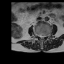CCS_stenosis: (41, 33, 43, 40)
LFS_stenosis: (45, 33, 46, 38)
LLS_normal: (43, 33, 44, 39)
RFS_normal: (37, 32, 39, 38)
RLS_normal: (39, 33, 41, 39)
